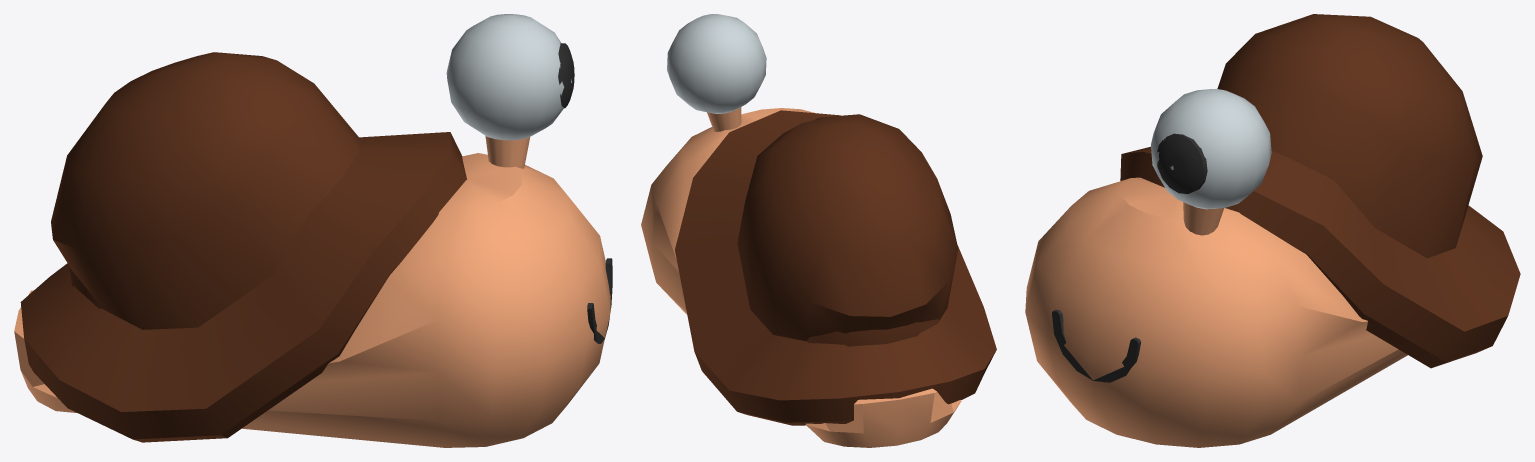
File: Snail.glb
3 views of the same model, side by side, from view 1: azimuth 30°, elevation 25°; view 2: azimuth 150°, elevation 25°; view 3: azimuth 270°, elevation 25° (orthographic). The views are drawn at different scales.
Parts seen in each view (by area): view 1: Sphere.027, Sphere.025, Sphere.026, Circle.034, Circle.035, Circle.036; view 2: Sphere.027, Sphere.025, Sphere.026, Circle.034; view 3: Sphere.027, Sphere.025, Sphere.026, Circle.035, Circle.036, Circle.034.
Boxes of the visible parts, x1,y1,x2,y2 form: Sphere.027: [20, 52, 466, 442]; Sphere.025: [14, 153, 610, 447]; Sphere.026: [446, 14, 571, 140]; Circle.034: [485, 136, 530, 168]; Circle.035: [558, 43, 574, 108]; Circle.036: [587, 258, 612, 343]; Sphere.027: [675, 110, 996, 425]; Sphere.025: [641, 108, 961, 447]; Sphere.026: [667, 14, 766, 113]; Circle.034: [707, 107, 741, 131]; Sphere.027: [1120, 14, 1520, 368]; Sphere.025: [1025, 177, 1407, 447]; Sphere.026: [1151, 89, 1271, 209]; Circle.035: [1157, 133, 1207, 193]; Circle.036: [1052, 309, 1140, 382]; Circle.034: [1183, 202, 1223, 235].
Size of the model in its own units: 1.18 by 0.8622 by 1.12.
